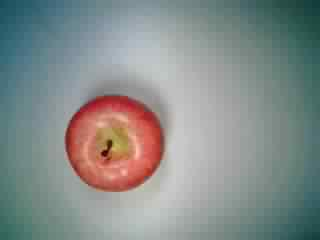apple: (63, 91, 167, 192)
